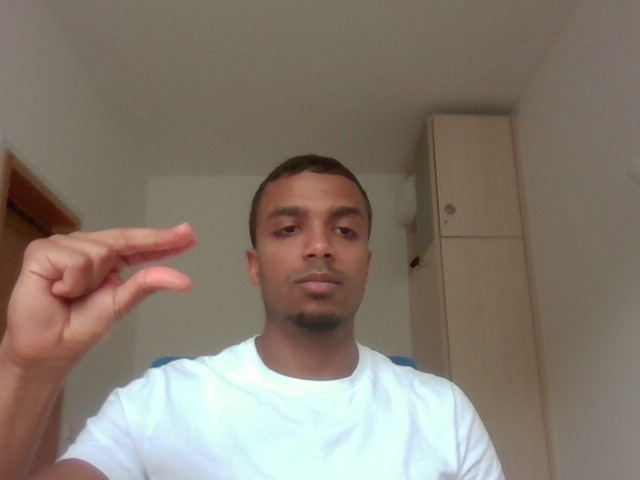never: (5, 201, 238, 369)
